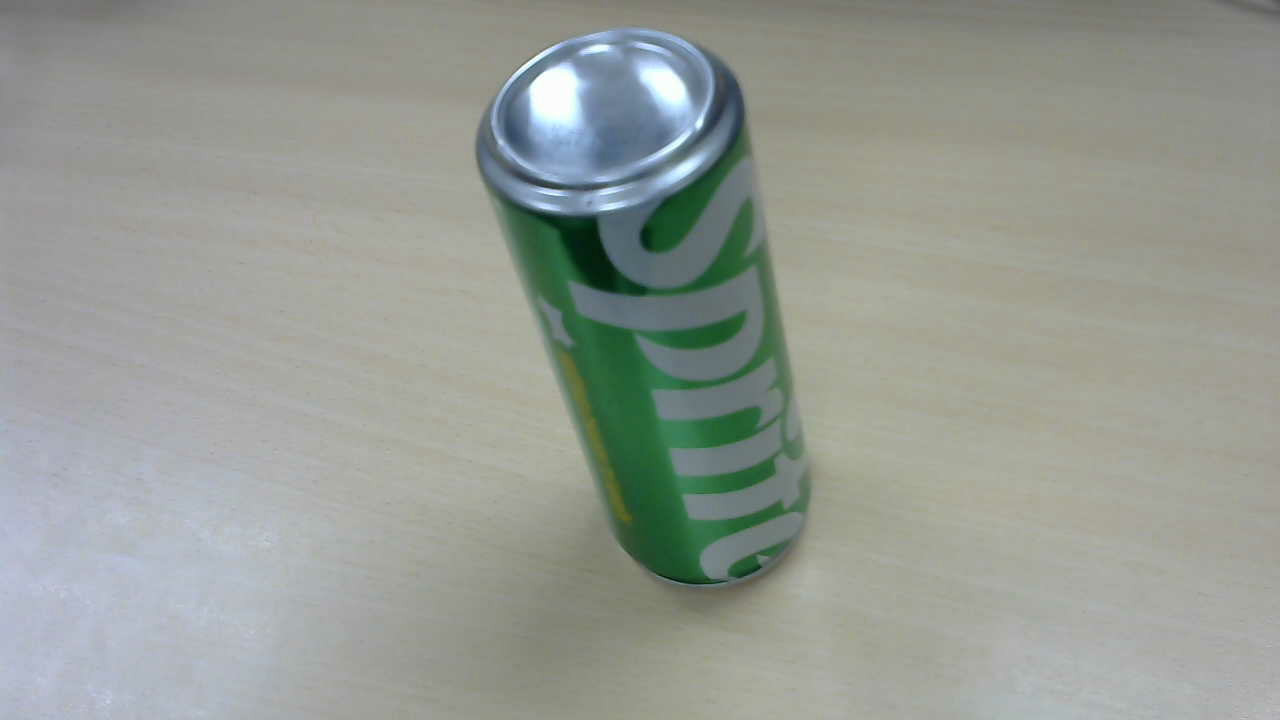Sprite: (482, 33, 821, 588)
